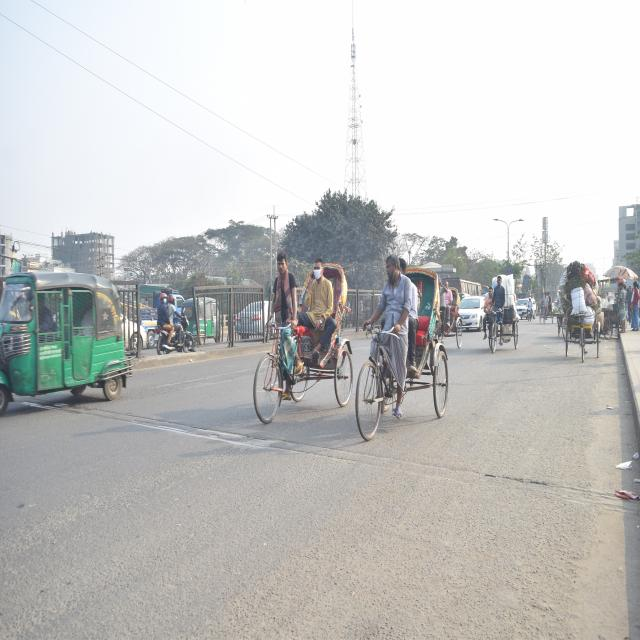car: (458, 292, 486, 334), (514, 296, 538, 321)
motorbike: (147, 294, 194, 364), (524, 300, 534, 325)
